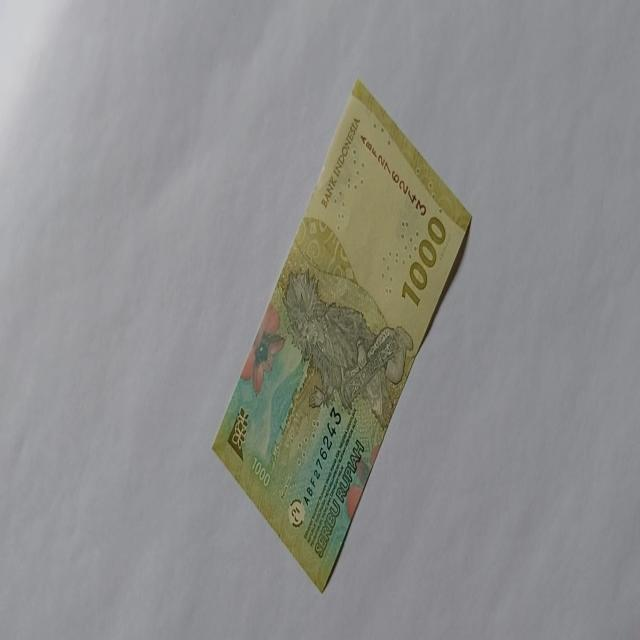seribu rupiah kertas: (210, 76, 472, 593)
